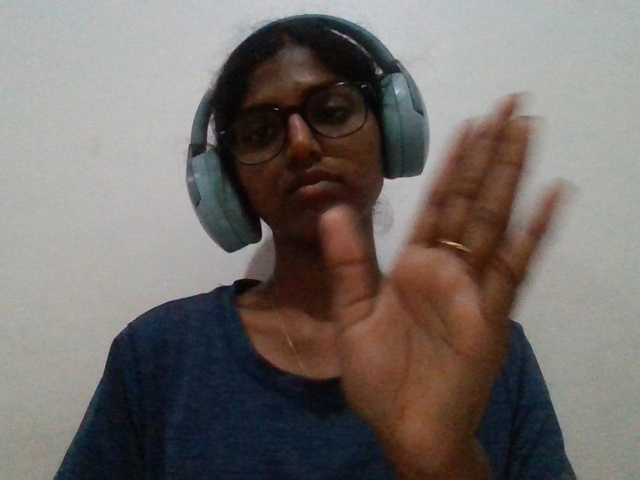Bye: (267, 76, 616, 480)
